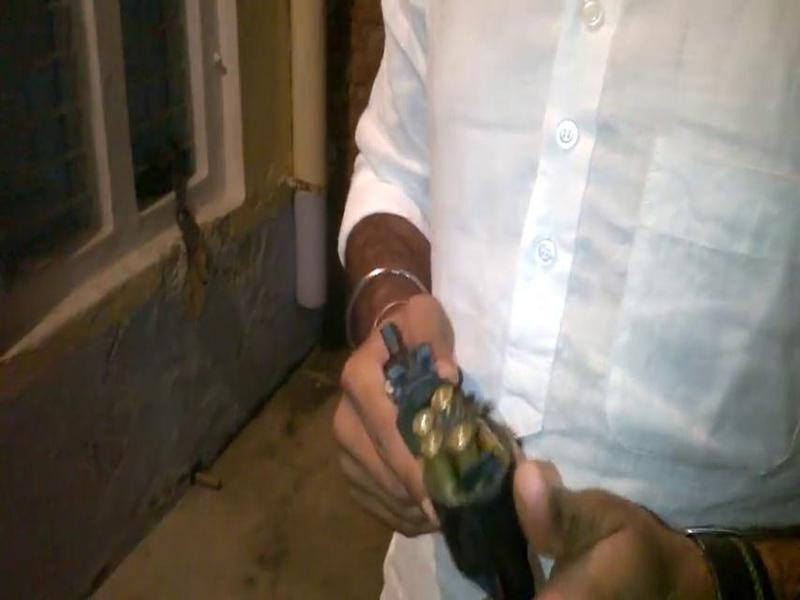Revolver: (321, 283, 578, 600)
